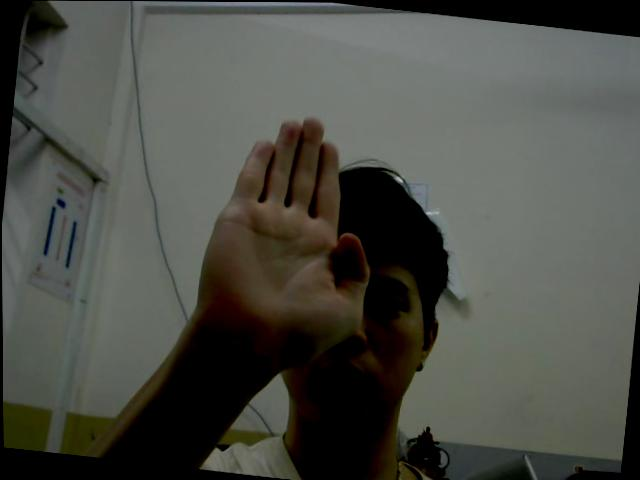B: (190, 102, 383, 367)
